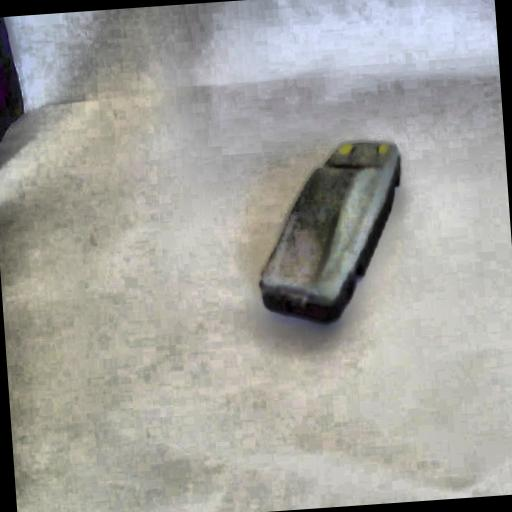normal_car: (242, 134, 412, 332)
